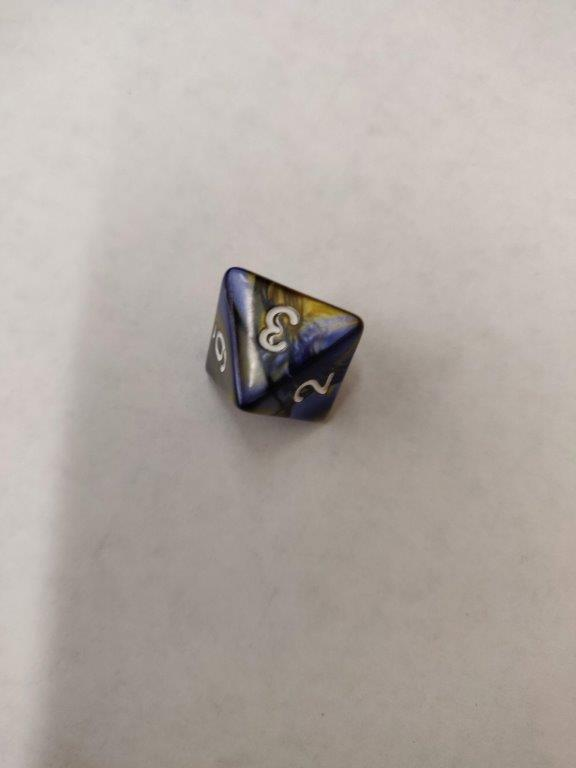d8-3: (205, 266, 365, 425)
